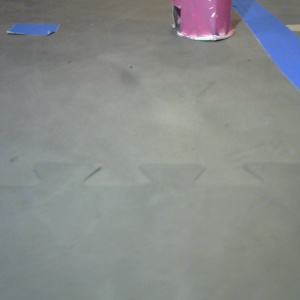right: (171, 1, 237, 43)
